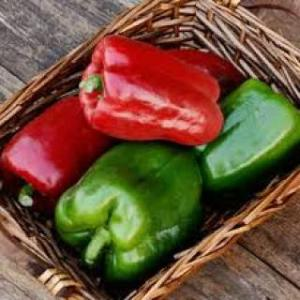bell_pepper: (50, 137, 206, 283), (199, 78, 298, 189)
